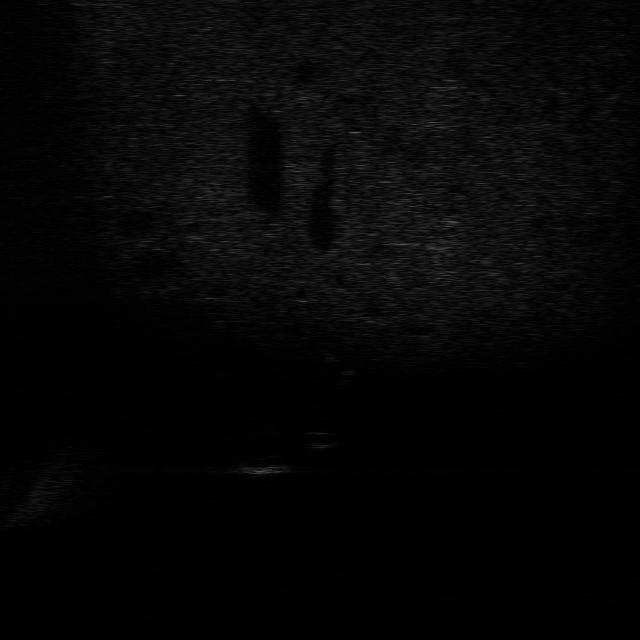ball: (296, 427, 342, 451)
human body: (310, 342, 358, 394)
square cage: (235, 450, 291, 479)
